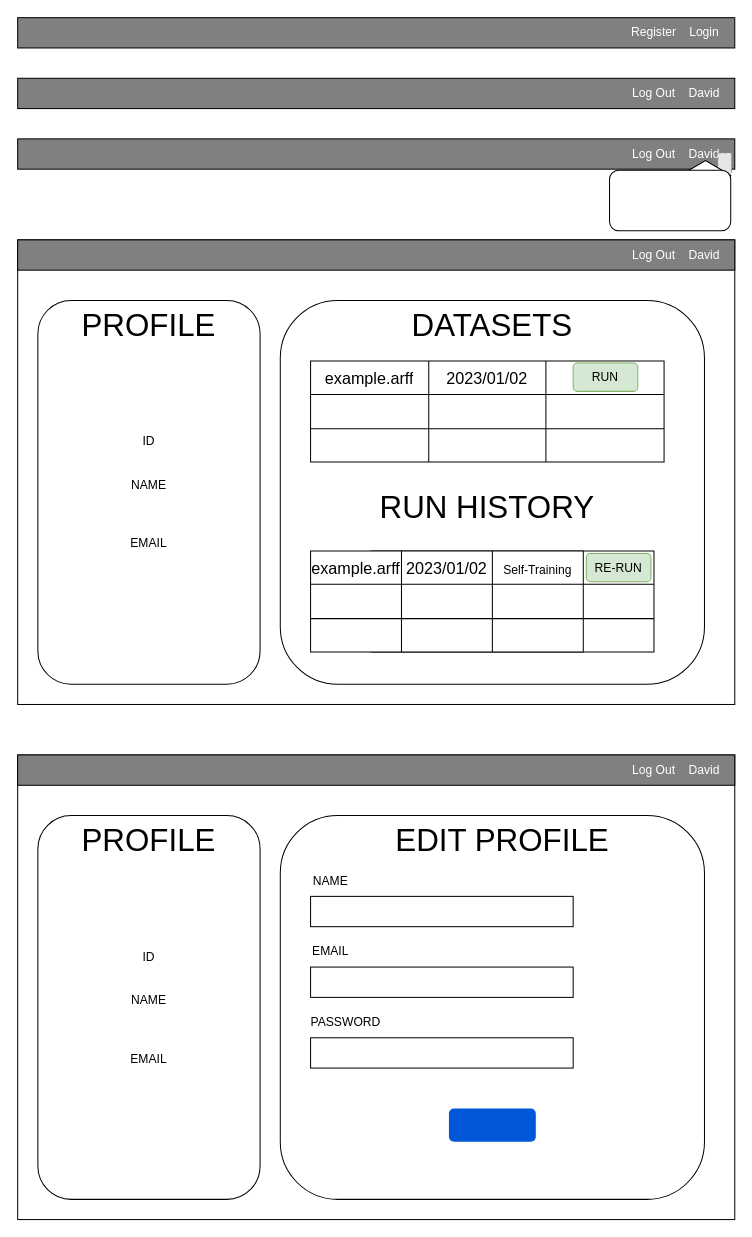
Image size: 752x1237. Some labels were removed from this diagram. Grey dashed boxes stand in for pictures. Each missing label, with the centre of its shape:
"My space Profile" belongs at [670,200].
"SEND" belongs at [491,1124].
